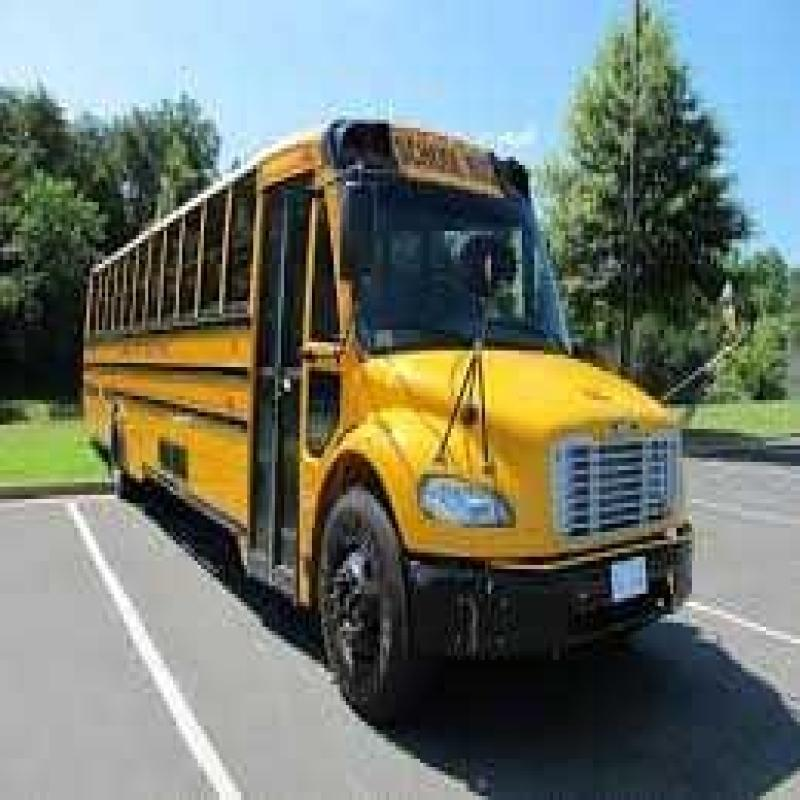bus: (63, 81, 708, 699)
